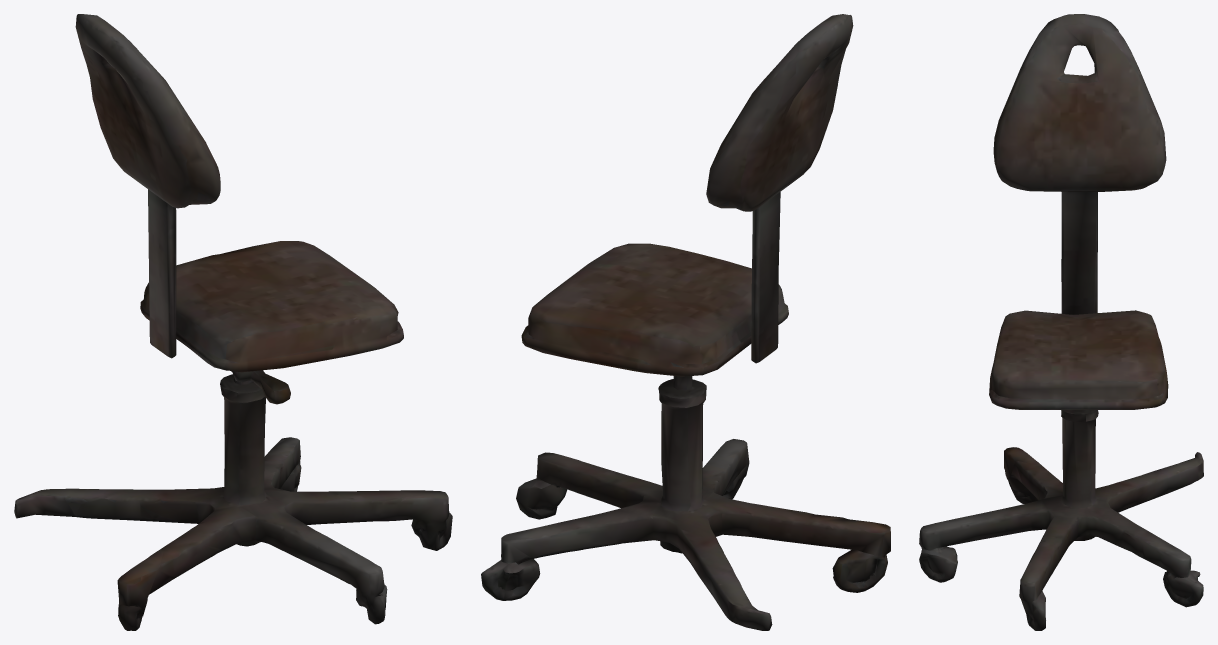
Rendered from plain-iron-examination-chair-v001.glb.
3 renders of one model, left to right at view 1: azimuth 30°, elevation 25°; view 2: azimuth 150°, elevation 25°; view 3: azimuth 270°, elevation 25°, orthographic. The views are drawn at different scales.
Visible parts, largest first — view 1: plain-iron-examination-chair; view 2: plain-iron-examination-chair; view 3: plain-iron-examination-chair.
Part boxes in pixels (x1,y1,x2,y2): plain-iron-examination-chair: (14, 14, 452, 630); plain-iron-examination-chair: (481, 14, 890, 630); plain-iron-examination-chair: (919, 14, 1203, 630).
Bounding box in the file's own units: 0.8241 × 1.32 × 0.6993.
1 material, 1 textured.
